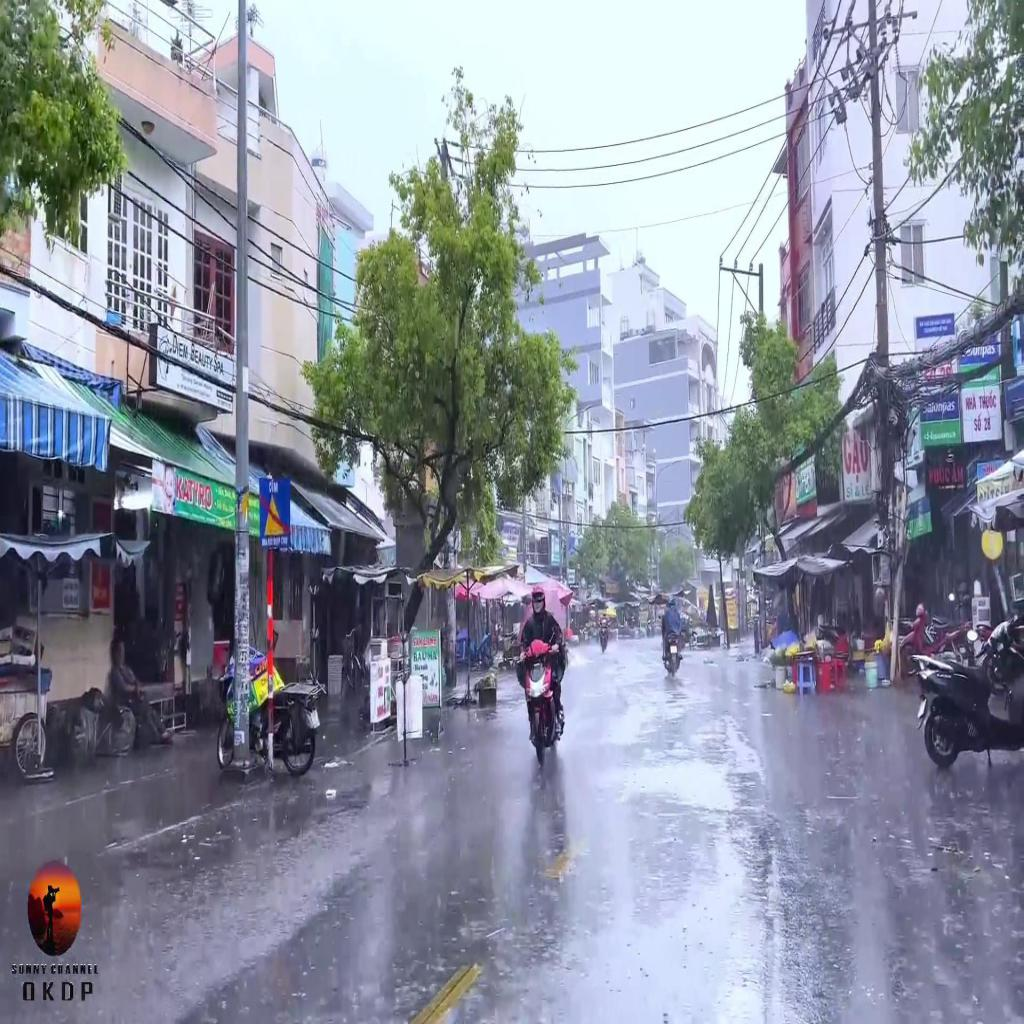khac: (258, 478, 289, 547)
